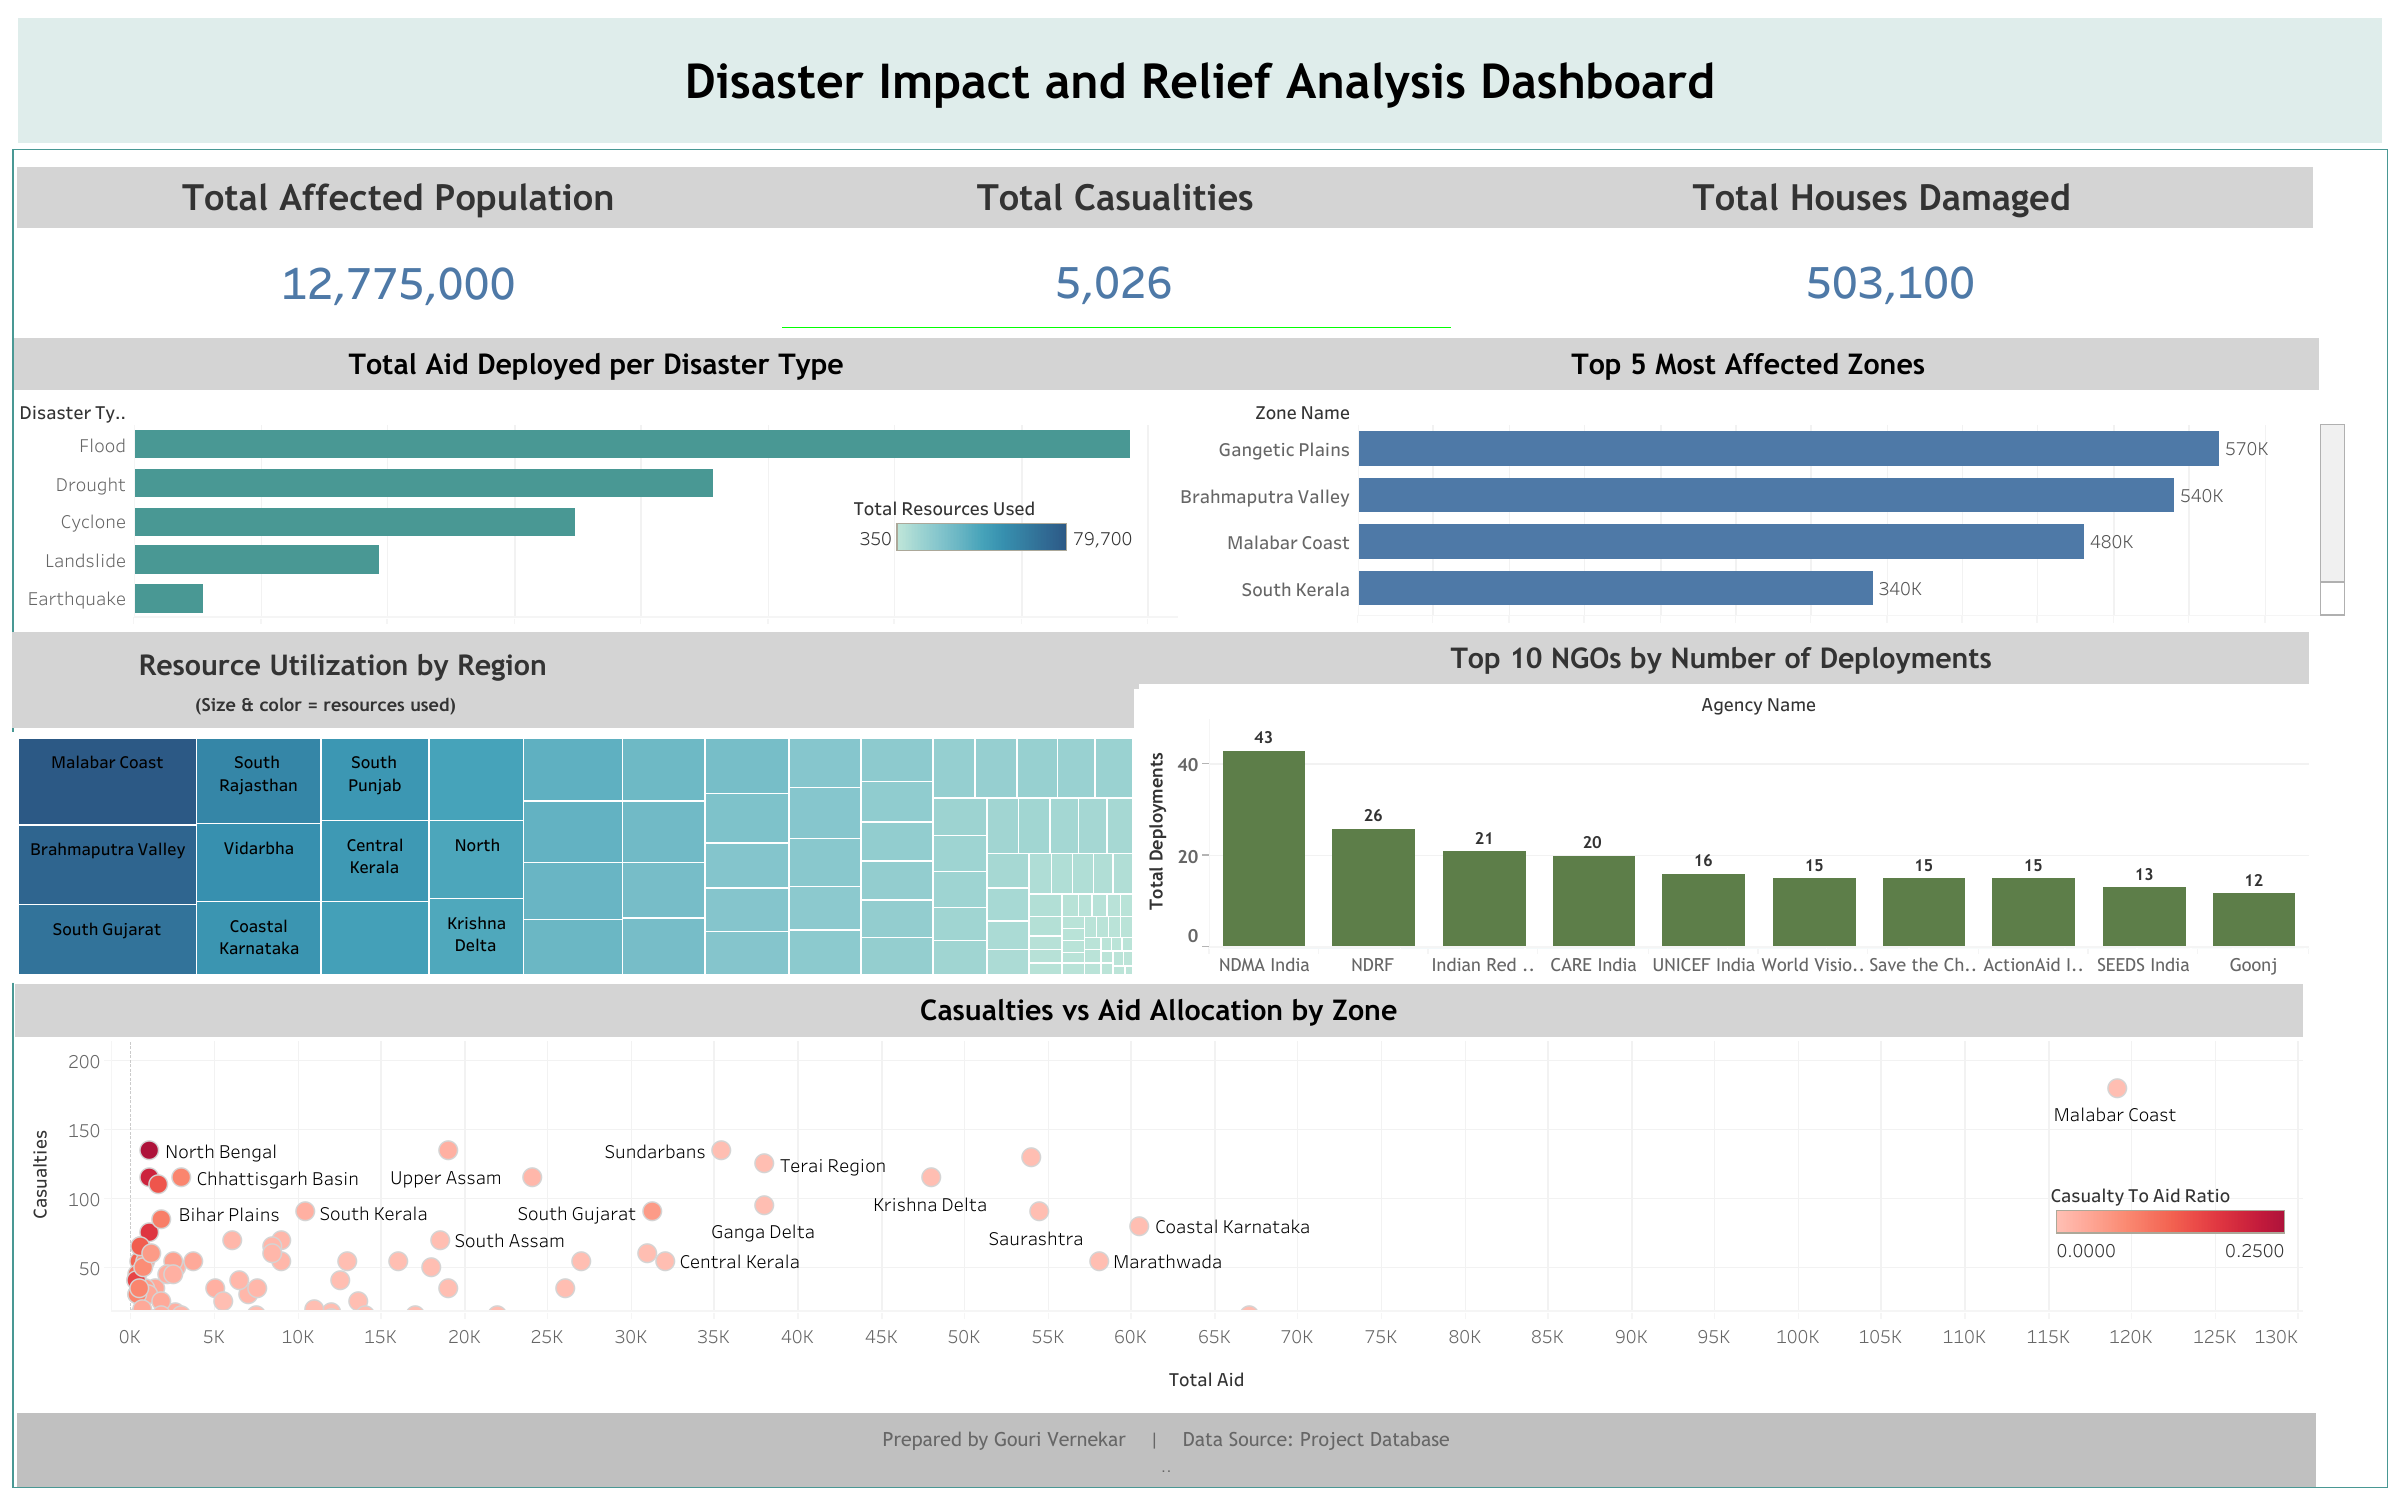

The page's visual inventory and layout, read from the dashboard file:
{"tool":"tableau","page":{"name":"Dashboard 1","canvas":[1600,1000],"ordinal":0},"visuals":[{"type":"title","box":[8,8,1584,91]},{"type":"worksheet","title":"Total Affected Population","mark":"Automatic","box":[11,111,509,108]},{"type":"worksheet","title":"Total Casualities","mark":"Automatic","box":[519,111,449,106]},{"type":"worksheet","title":"Total Houses Damaged","mark":"Automatic","box":[967,111,575,106]},{"type":"worksheet","title":"Aid By Disaster Type","mark":"Automatic","rows":["disaster_type"],"cols":["total_quantity"],"box":[9,225,777,197]},{"type":"worksheet","title":"Top 5 Zones","mark":"Automatic","rows":["zone_name"],"cols":["total_affected_population"],"box":[785,225,779,196]},{"type":"legend","title":"Resource Utilization","param":"[federated.0w90m8r0x04d9p1gek00k1g6ma12].[sum:total_resources_used:qk]","box":[569,325,191,61.7]},{"type":"worksheet","title":"Resource Utilization","mark":"Automatic","box":[8,421,751,234]},{"type":"worksheet","title":"Top Responding NGO's","mark":"Automatic","rows":["total_deployments"],"cols":["agency_name"],"box":[756,421,783,230]},{"type":"worksheet","title":"Casuality to aid","mark":"Circle","rows":["casualties"],"cols":["total_aid"],"box":[10,656,1525,279]},{"type":"legend","title":"Casuality to aid","param":"[federated.1tks3j40fdlssh17kjftp1f3xdb5].[sum:casualty_to_aid_ratio:qk]","box":[1367,783,161,68]},{"type":"blank","box":[11,942,1533,49]},{"type":"text","box":[391,949,773,38]}]}

Visuals, with their boxes in screenshot pixels (x1, y1, x2, y2), scaled from the page's 1600x1000 canvas onto the 2399x1499 screenshot:
title: [x1=12, y1=12, x2=2387, y2=148]
"Total Affected Population" worksheet: [x1=16, y1=166, x2=780, y2=328]
"Total Casualities" worksheet: [x1=778, y1=166, x2=1451, y2=325]
"Total Houses Damaged" worksheet: [x1=1450, y1=166, x2=2312, y2=325]
"Aid By Disaster Type" worksheet: [x1=13, y1=337, x2=1179, y2=633]
"Top 5 Zones" worksheet: [x1=1177, y1=337, x2=2345, y2=631]
"Resource Utilization" legend: [x1=853, y1=487, x2=1140, y2=580]
"Resource Utilization" worksheet: [x1=12, y1=631, x2=1138, y2=982]
"Top Responding NGO's" worksheet: [x1=1134, y1=631, x2=2308, y2=976]
"Casuality to aid" worksheet (Circle marks): [x1=15, y1=983, x2=2302, y2=1402]
"Casuality to aid" legend: [x1=2050, y1=1174, x2=2291, y2=1276]
blank: [x1=16, y1=1412, x2=2315, y2=1486]
text: [x1=586, y1=1423, x2=1745, y2=1480]
